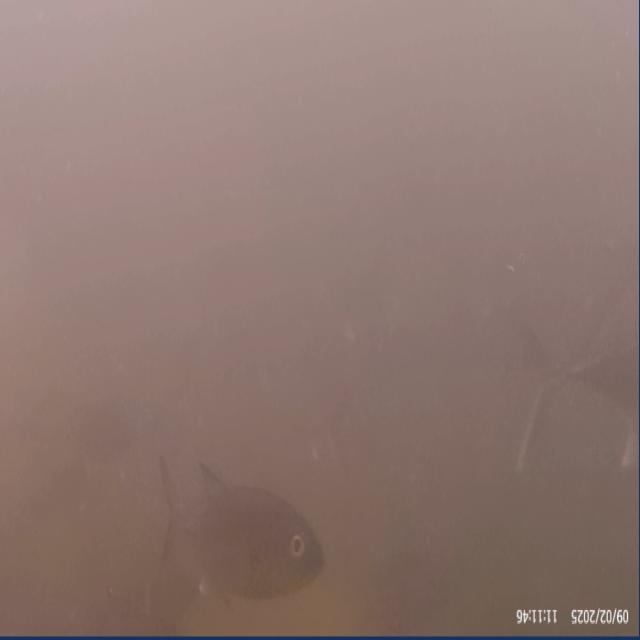ikan: (143, 386, 339, 607)
